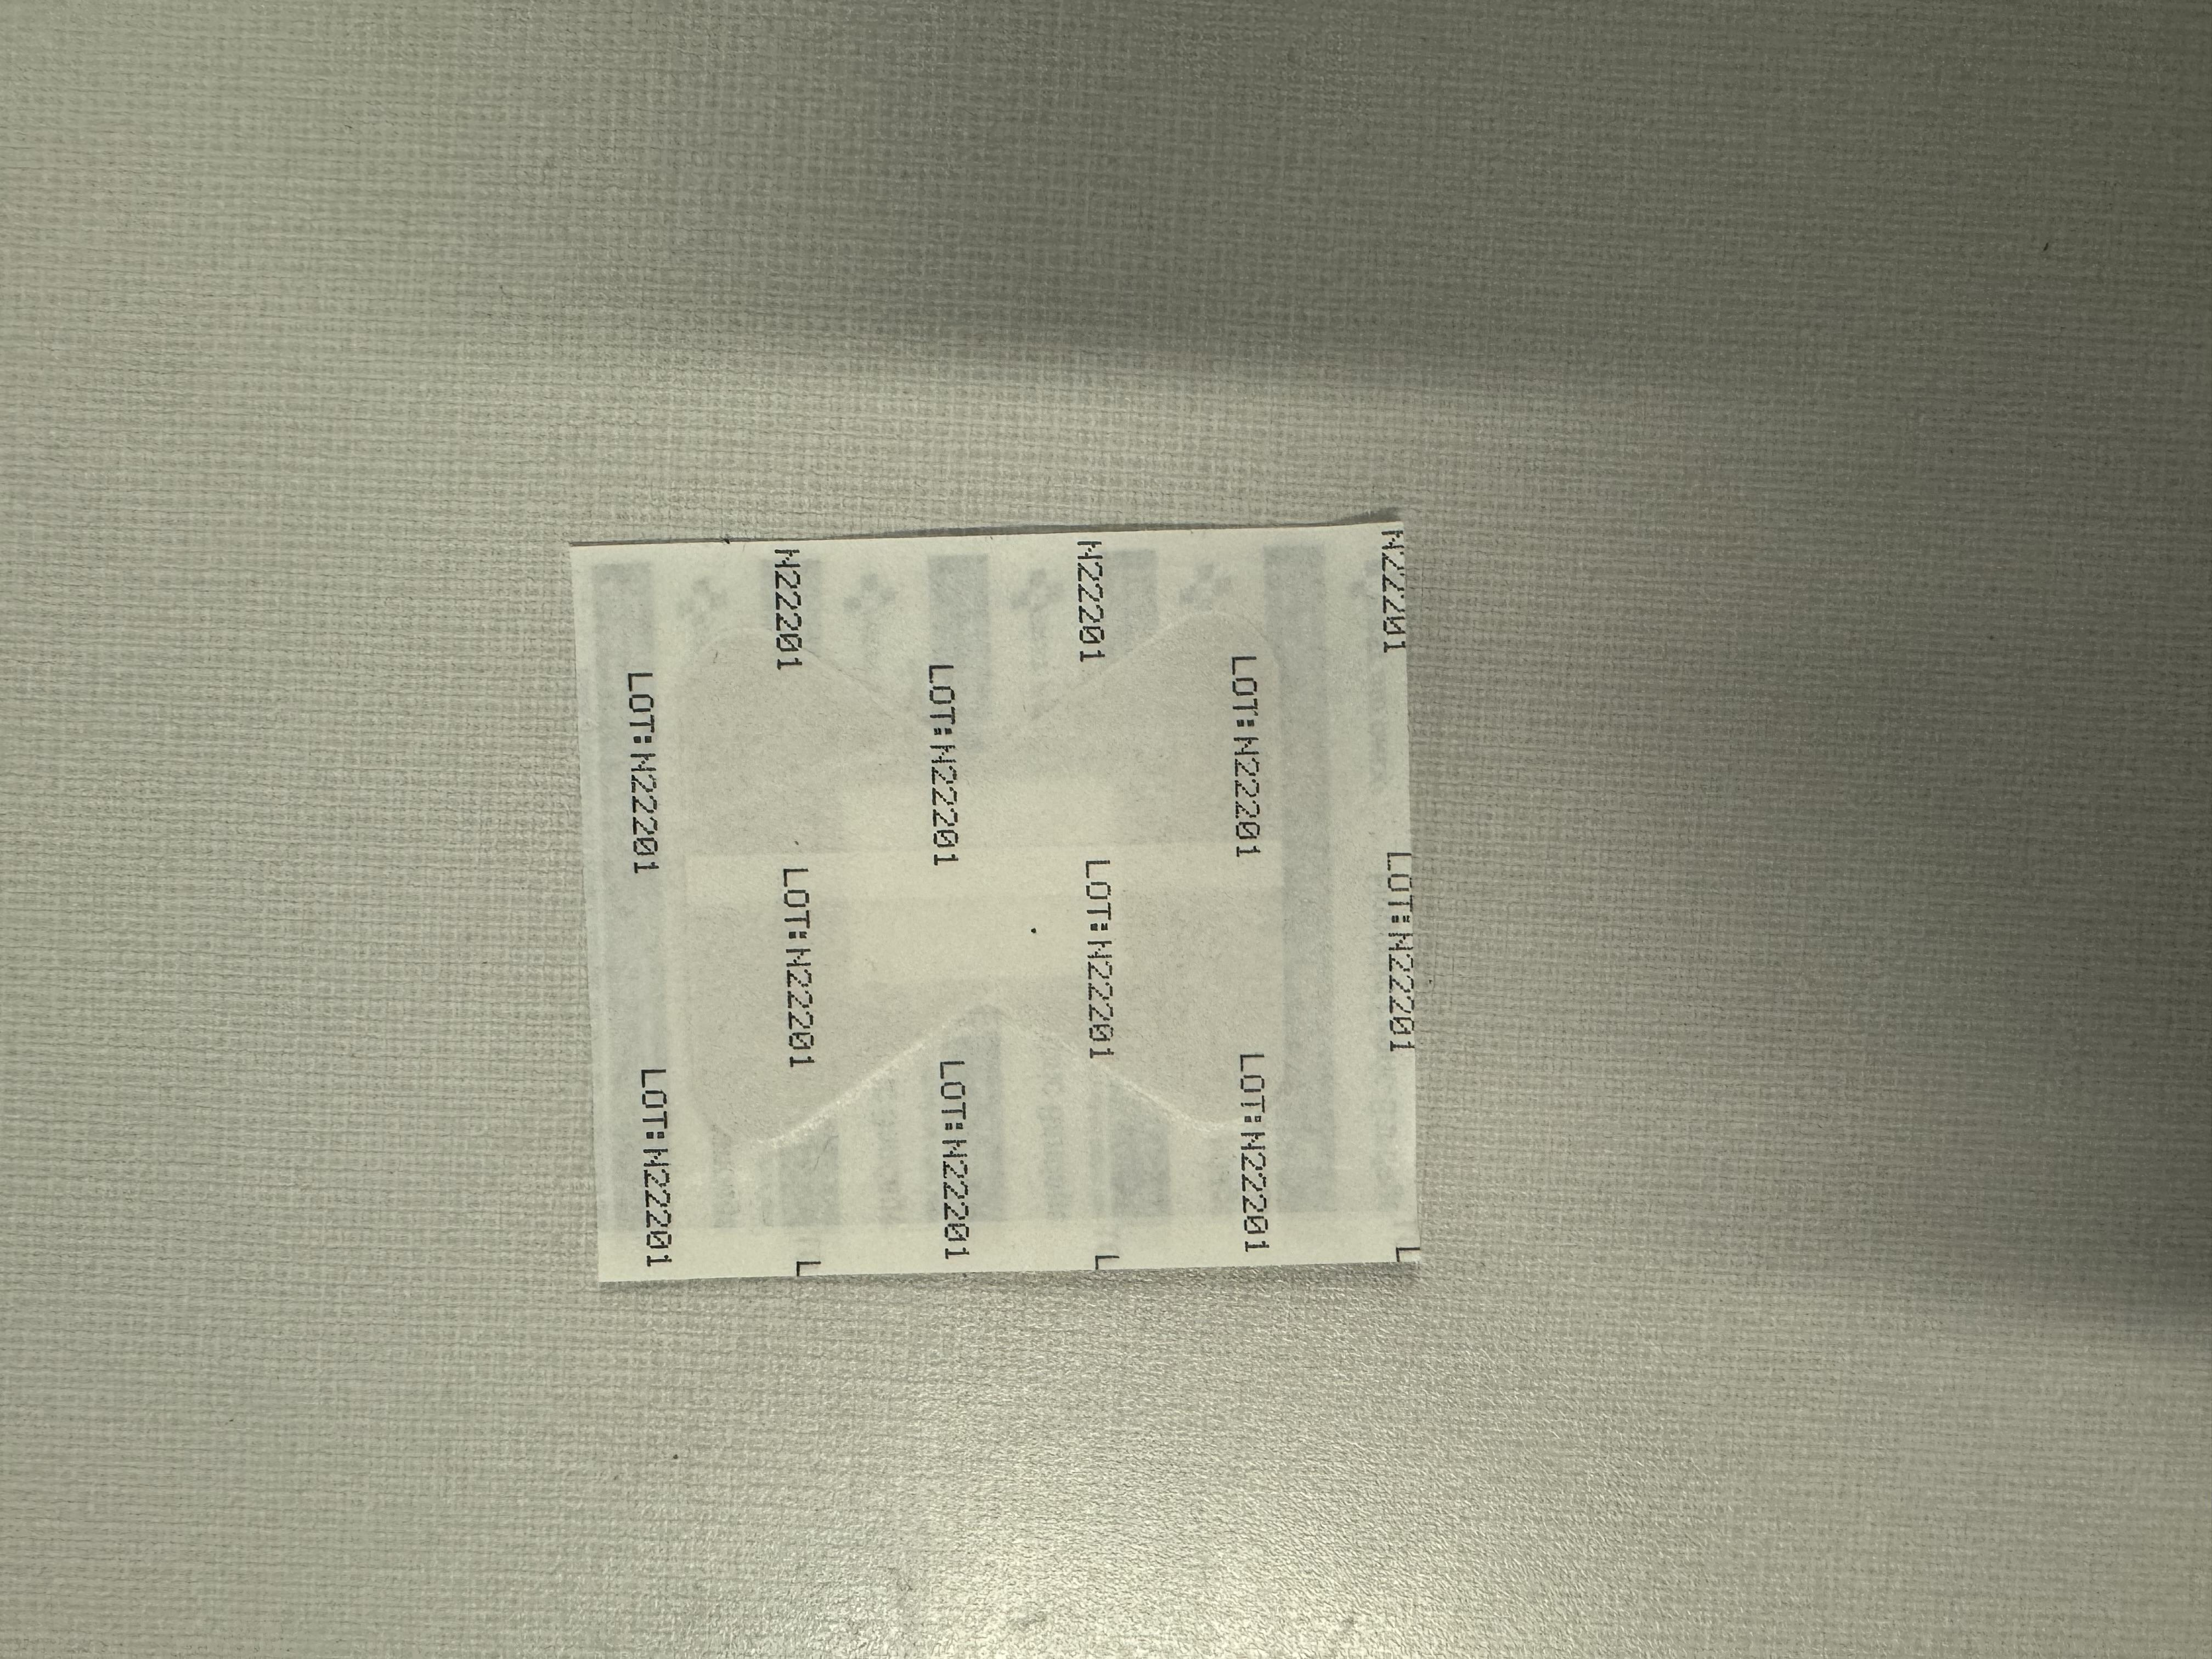bandage: (738, 308, 1738, 1223)
